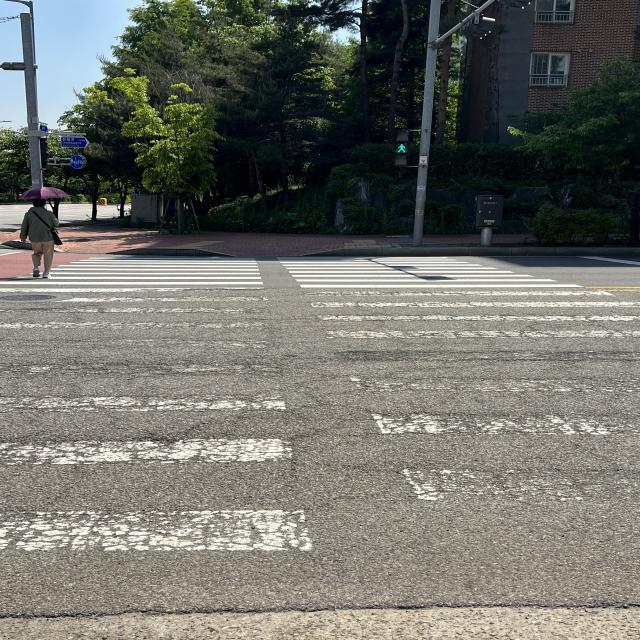crosswalk: (1, 250, 640, 640)
green-light: (388, 126, 418, 172)
